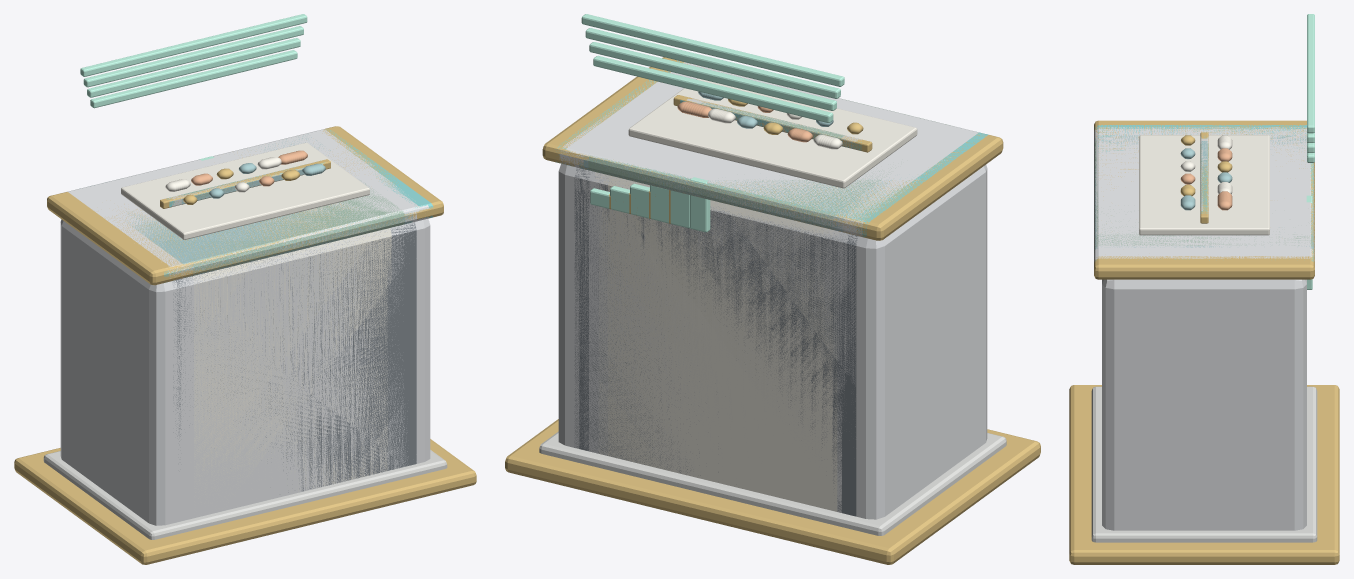
The model's file is Gear02.fbx.
3 renders of one model, left to right at view 1: azimuth 30°, elevation 25°; view 2: azimuth 150°, elevation 25°; view 3: azimuth 270°, elevation 25°, orthographic. The views are drawn at different scales.
Visible parts, largest first — view 1: Gear02_V10_Platinum, Gear02_V5_Platinum, Gear02_V6_Platinum, Gear02_V8_Graphite, Gear02_V10_Gold, Gear02_V3_Linen, Gear02_V9_Platinum, Gear02_V1_Ivory, Gear02_V1_Sage, Gear02_V9_Gold, Gear02_V1_Linen, Gear02_V3_Blue (+19 smaller); view 2: Gear02_V3_Linen, Gear02_V10_Platinum, Gear02_V5_Platinum, Gear02_V10_Gold, Gear02_V1_Ivory, Gear02_V6_Platinum, Gear02_V7_Graphite, Gear02_V8_Graphite, Gear02_V9_Platinum, Gear02_V9_Gold, Gear02_V5_Linen, Gear02_V1_Sage (+21 smaller); view 3: Gear02_V10_Platinum, Gear02_V10_Gold, Gear02_V6_Platinum, Gear02_V9_Gold, Gear02_V8_Linen, Gear02_V1_Linen, Gear02_V10_Chrome, Gear02_V5_Platinum, Gear02_V7_Linen, Gear02_V10_Linen, Gear02_V8_Chrome, Gear02_V8_Aqua (+9 smaller).
Part boxes in pixels (x1,y1,x2,y2): Gear02_V10_Platinum: (60, 219, 430, 525); Gear02_V5_Platinum: (176, 164, 419, 481); Gear02_V6_Platinum: (67, 130, 424, 520); Gear02_V8_Graphite: (172, 222, 416, 492); Gear02_V10_Gold: (14, 126, 476, 564); Gear02_V3_Linen: (192, 159, 353, 503); Gear02_V9_Platinum: (168, 221, 420, 463); Gear02_V1_Ivory: (201, 232, 387, 499); Gear02_V1_Sage: (141, 144, 404, 275); Gear02_V9_Gold: (22, 127, 464, 563); Gear02_V1_Linen: (157, 159, 344, 233); Gear02_V3_Blue: (79, 134, 412, 277); Gear02_V3_Linen: (598, 111, 844, 510); Gear02_V10_Platinum: (558, 163, 987, 519); Gear02_V5_Platinum: (569, 63, 975, 512); Gear02_V10_Gold: (505, 57, 1040, 564); Gear02_V1_Ivory: (608, 176, 824, 475); Gear02_V6_Platinum: (564, 62, 978, 451); Gear02_V7_Graphite: (579, 168, 852, 515); Gear02_V8_Graphite: (574, 167, 858, 516); Gear02_V9_Platinum: (570, 166, 862, 517); Gear02_V9_Gold: (512, 59, 1030, 563); Gear02_V5_Linen: (646, 82, 899, 183); Gear02_V1_Sage: (588, 72, 950, 229); Gear02_V10_Platinum: (1102, 279, 1306, 530); Gear02_V10_Gold: (1069, 120, 1339, 564); Gear02_V6_Platinum: (1094, 129, 1312, 258); Gear02_V9_Gold: (1072, 122, 1339, 548); Gear02_V8_Linen: (1139, 137, 1269, 225); Gear02_V1_Linen: (1139, 147, 1269, 216); Gear02_V10_Chrome: (1091, 386, 1317, 542); Gear02_V5_Platinum: (1094, 131, 1314, 257); Gear02_V7_Linen: (1139, 138, 1269, 224); Gear02_V10_Linen: (1139, 135, 1269, 235); Gear02_V8_Chrome: (1091, 391, 1317, 532); Gear02_V8_Aqua: (1094, 125, 1313, 261).
Size of the model in its own units: 97.6 by 111 by 66.
